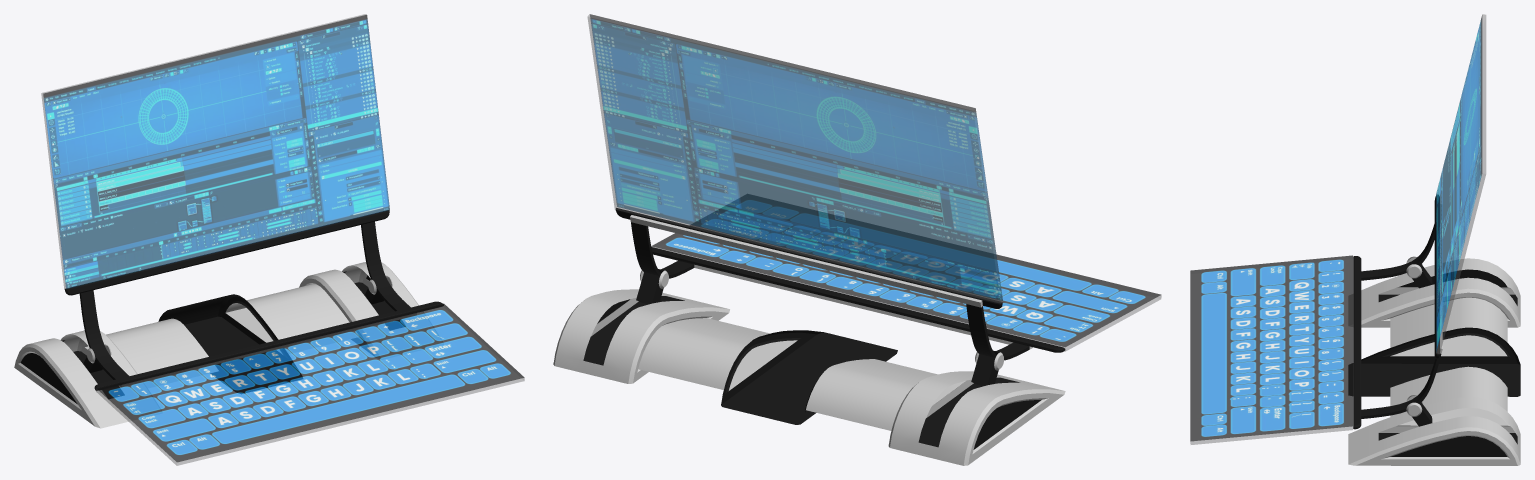
File: computer-transformed.glb
3 views of the same model, side by side, from view 1: azimuth 30°, elevation 25°; view 2: azimuth 150°, elevation 25°; view 3: azimuth 270°, elevation 25° (orthographic). The views are drawn at different scales.
Parts seen in each view (by area): view 1: Plane.002_digital_displays_0, Circle_metal_1_0, Circle_metal_2_0, Plane.002_digital_display_sides_0; view 2: Plane.002_digital_displays_0, Plane.002_digital_display_sides_0, Circle_metal_1_0, Circle_metal_2_0; view 3: Plane.002_digital_displays_0, Circle_metal_1_0, Circle_metal_2_0, Plane.002_digital_display_sides_0.
Part boxes in pixels (x1,y1,x2,y2): Plane.002_digital_displays_0: (43,15,524,462); Circle_metal_1_0: (14,262,443,428); Circle_metal_2_0: (21,210,443,404); Plane.002_digital_display_sides_0: (41,14,524,465); Plane.002_digital_displays_0: (590,14,1160,346); Plane.002_digital_display_sides_0: (587,14,1161,351); Circle_metal_1_0: (553,215,1065,465); Circle_metal_2_0: (583,208,1065,449); Plane.002_digital_displays_0: (1190,15,1482,441); Circle_metal_1_0: (1348,204,1520,465); Circle_metal_2_0: (1348,194,1520,456); Plane.002_digital_display_sides_0: (1190,14,1485,444).
Bounding box in the file's own units: 4.95 × 3.86 × 4.04.
Materials: 4 (1 with a texture image).
